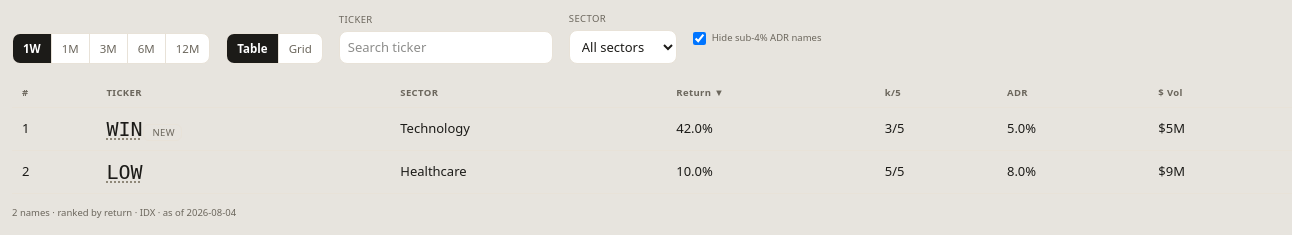
Test: the Leaders screen › counts AFTER filtering in the trailing summary (spec §5.3)
Expected: the table is shown, [12, 80, 1291, 194]
Expected: the text "2 names · ranked by return · IDX · as of 2026-08-04" is shown, [12, 206, 236, 218]
Note: Narrow to WIN by ticker search: the tally drops to one, live.
Type "WIN" into the search field labelled "Ticker" at coordinates (446, 48), box [339, 31, 553, 64]
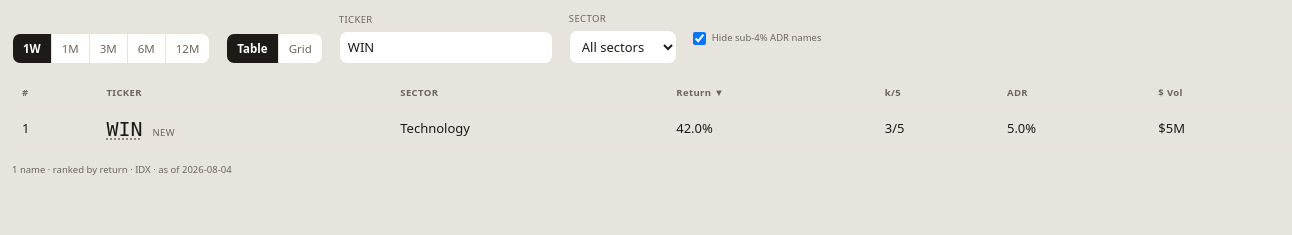
Now the text "1 name · ranked by return · IDX · as of 2026-08-04" is shown, box [12, 162, 232, 176]
